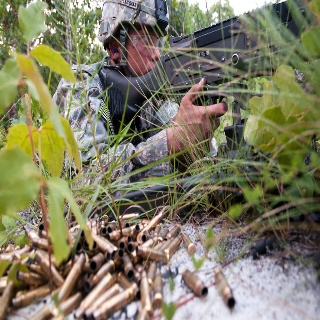rifle: (99, 2, 320, 134)
